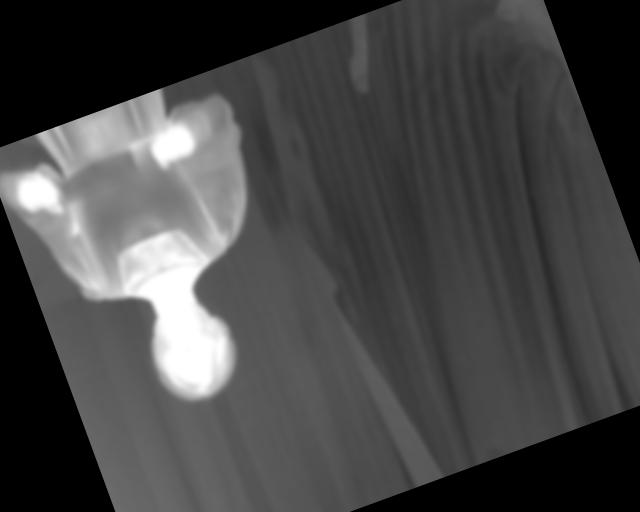face: (135, 287, 252, 413)
